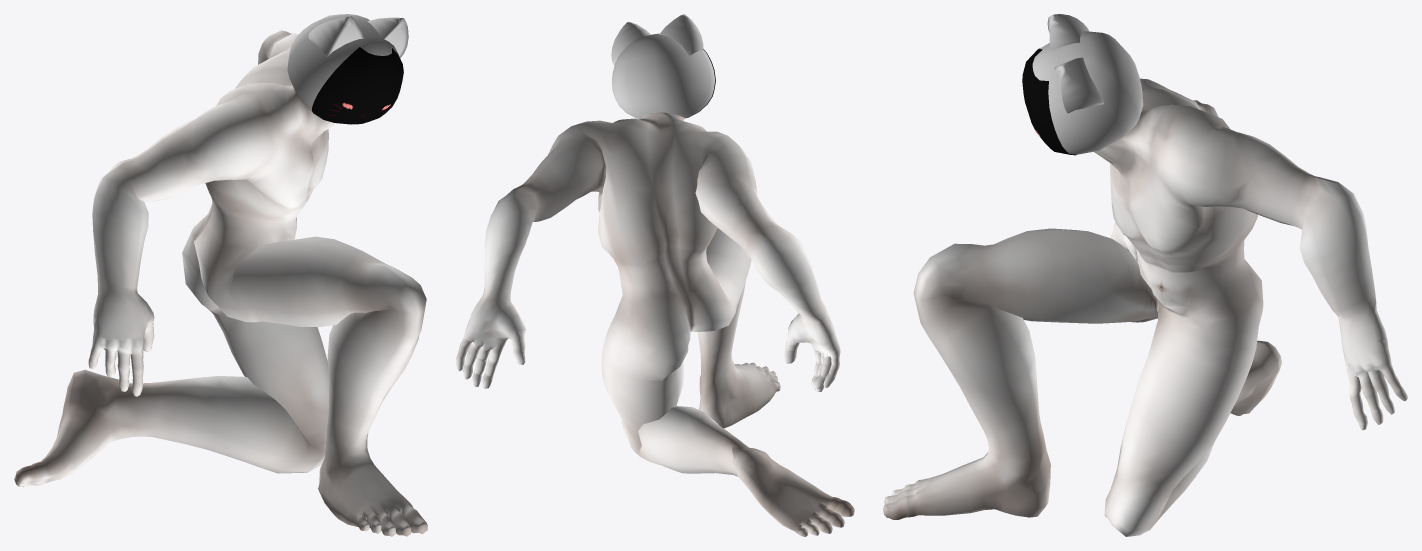
The picture shows the model from 3 angles, left to right: view 1: azimuth 30°, elevation 25°; view 2: azimuth 150°, elevation 25°; view 3: azimuth 270°, elevation 25°; orthographic projection. The views are drawn at different scales.
Parts seen in each view (by area): view 1: Muscle_Body, Cat_Head, ______?001; view 2: Muscle_Body, Cat_Head; view 3: Muscle_Body, Cat_Head, ______?001.
Boxes of the visible parts, bbox=[...] form: Muscle_Body: bbox=[14, 30, 427, 536]; Cat_Head: bbox=[287, 14, 408, 111]; ______?001: bbox=[312, 47, 403, 124]; Muscle_Body: bbox=[456, 112, 854, 536]; Cat_Head: bbox=[611, 14, 715, 118]; Muscle_Body: bbox=[883, 78, 1407, 536]; Cat_Head: bbox=[1032, 14, 1143, 154]; ______?001: bbox=[1022, 48, 1076, 155].
Bounding box in the file's own units: 14.8 × 18.81 × 17.09.
